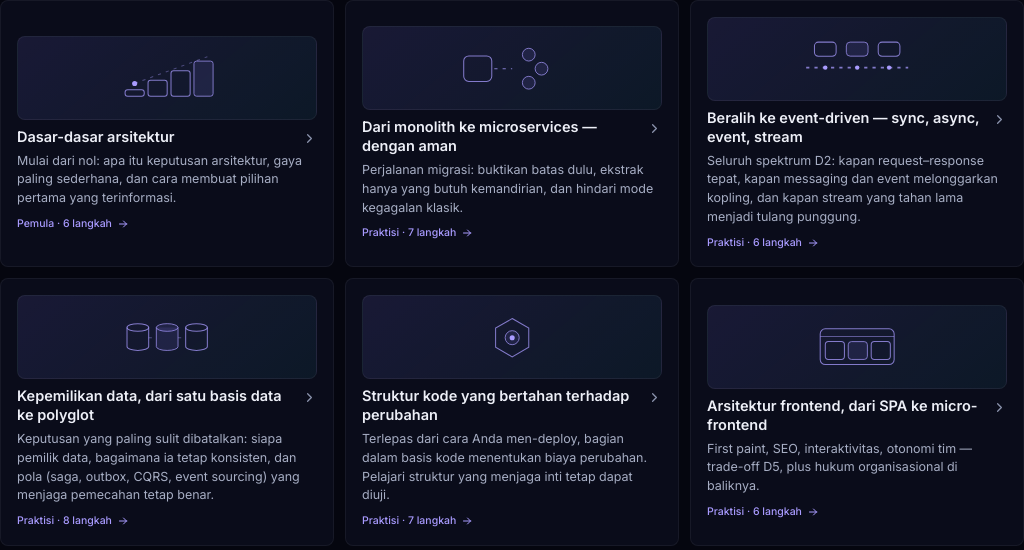
Test: Insights renders Indonesian at the deepest sub-level (lang=id) › Roadmap: list + path detail are in Indonesian
Expected: the text "Mulai dari nol: apa itu keputusan arsitektur" is shown, [17, 153, 302, 205]
Step 1. Click the text "Dasar-dasar arsitektur" → (96, 137), box [17, 128, 174, 147]
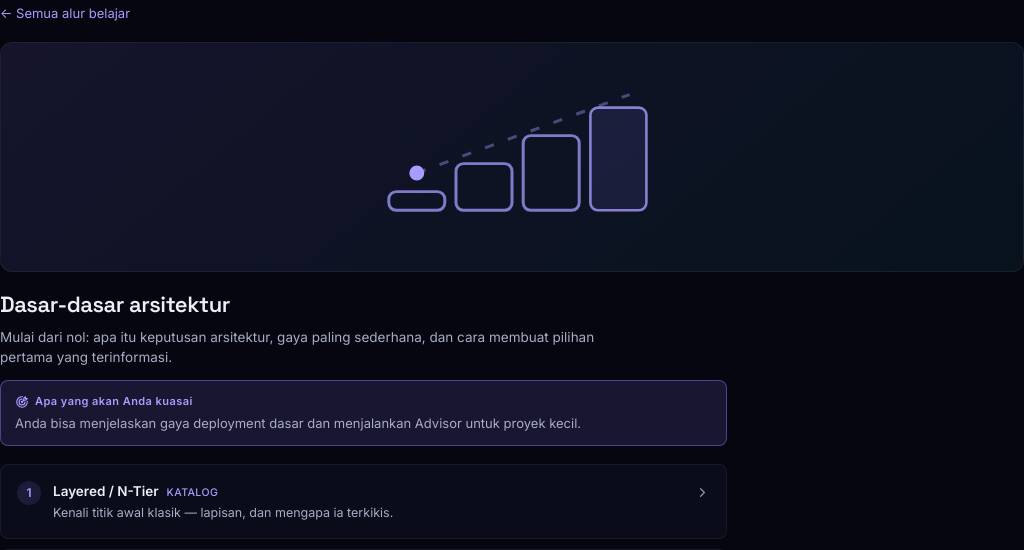
Now the text "Anda bisa menjelaskan gaya deployment dasar" is shown, box [15, 415, 581, 431]
Now the text "Kenali titik awal klasik — lapisan, dan mengapa ia terkikis." is shown, box [53, 505, 393, 520]
